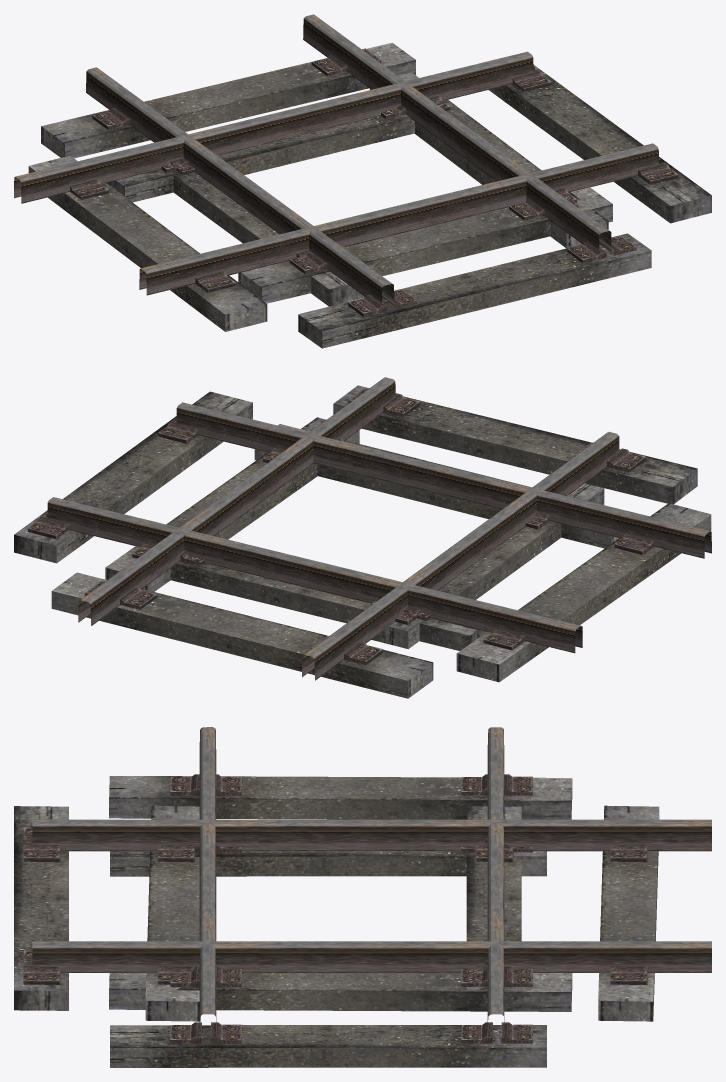
The model's file is railsx.obj.
3 renders of one model, top to bottom at view 1: azimuth 30°, elevation 25°; view 2: azimuth 150°, elevation 25°; view 3: azimuth 270°, elevation 25°, orthographic. The views are drawn at different scales.
Parts seen in each view (by area): view 1: veh_rai003, wood_shpala_003, veh_rai002, wood_shpala_01, wood_shpala_004, wood_shpala_006, veh_rail_bolt002, veh_rail_bolt, veh_rail_bolt005, veh_rail_bolt003; view 2: veh_rai003, veh_rai002, wood_shpala_01, wood_shpala_003, wood_shpala_004, wood_shpala_006, veh_rail_bolt003, veh_rail_bolt, veh_rail_bolt005, veh_rail_bolt002; view 3: veh_rai002, wood_shpala_006, wood_shpala_004, wood_shpala_003, wood_shpala_01, veh_rai003, veh_rail_bolt005, veh_rail_bolt002, veh_rail_bolt003, veh_rail_bolt.
Part boxes in pixels (x1,y1,x2,y2): veh_rai003: (14,51,658,295); wood_shpala_003: (238,187,651,348); veh_rai002: (86,14,611,305); wood_shpala_01: (41,42,454,202); wood_shpala_004: (28,155,364,331); wood_shpala_006: (370,65,711,248); veh_rail_bolt002: (289,199,636,316); veh_rail_bolt: (92,48,439,172); veh_rail_bolt005: (429,66,678,202); veh_rail_bolt003: (70,159,310,292); veh_rai003: (47,402,711,653); veh_rai002: (78,377,619,680); wood_shpala_01: (51,561,486,698); wood_shpala_003: (254,385,697,548); wood_shpala_004: (371,483,711,682); wood_shpala_006: (14,391,359,591); veh_rail_bolt003: (395,512,654,650); veh_rail_bolt: (84,552,430,664); veh_rail_bolt005: (27,417,284,558); veh_rail_bolt002: (305,388,646,500); veh_rai002: (32,819,711,972); wood_shpala_006: (109,973,572,1067); wood_shpala_004: (109,776,572,876); wood_shpala_003: (14,805,200,1021); wood_shpala_01: (466,805,659,1021); veh_rai003: (199,727,504,1031); veh_rail_bolt005: (170,966,532,1043); veh_rail_bolt002: (23,827,194,984); veh_rail_bolt003: (170,774,532,852); veh_rail_bolt: (476,844,647,984).
Size of the model in its own units: 5.61 by 0.4121 by 5.61.
